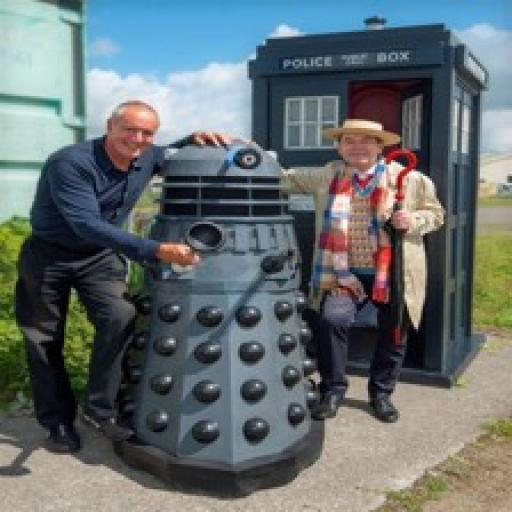dalek: (91, 137, 327, 499)
